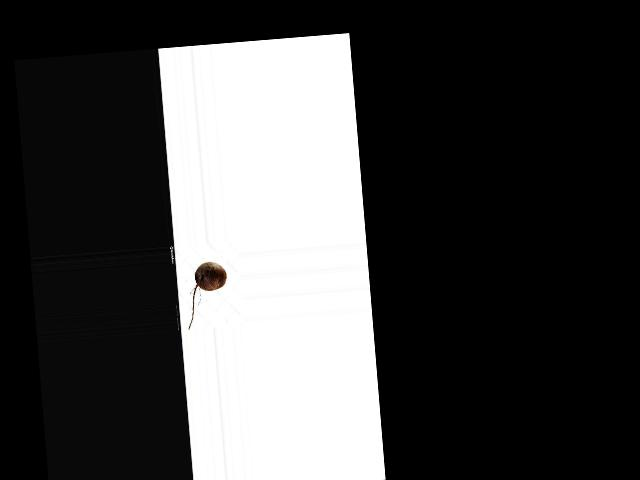beet: (183, 261, 230, 330)
